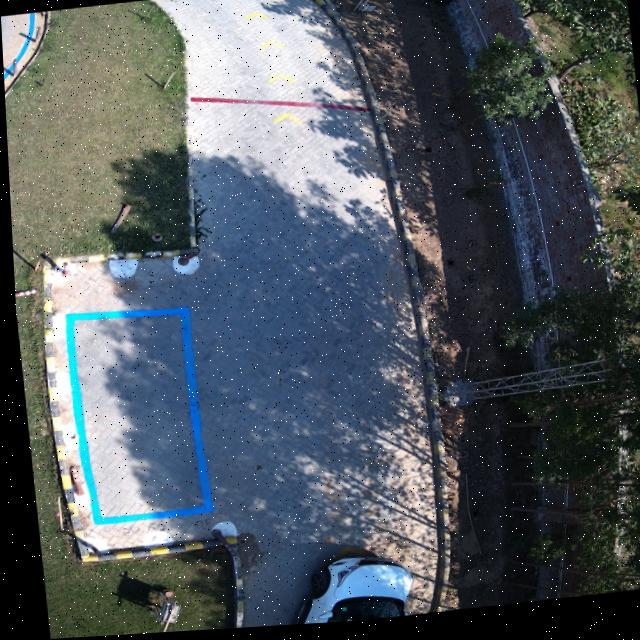car: (288, 561, 405, 628)
